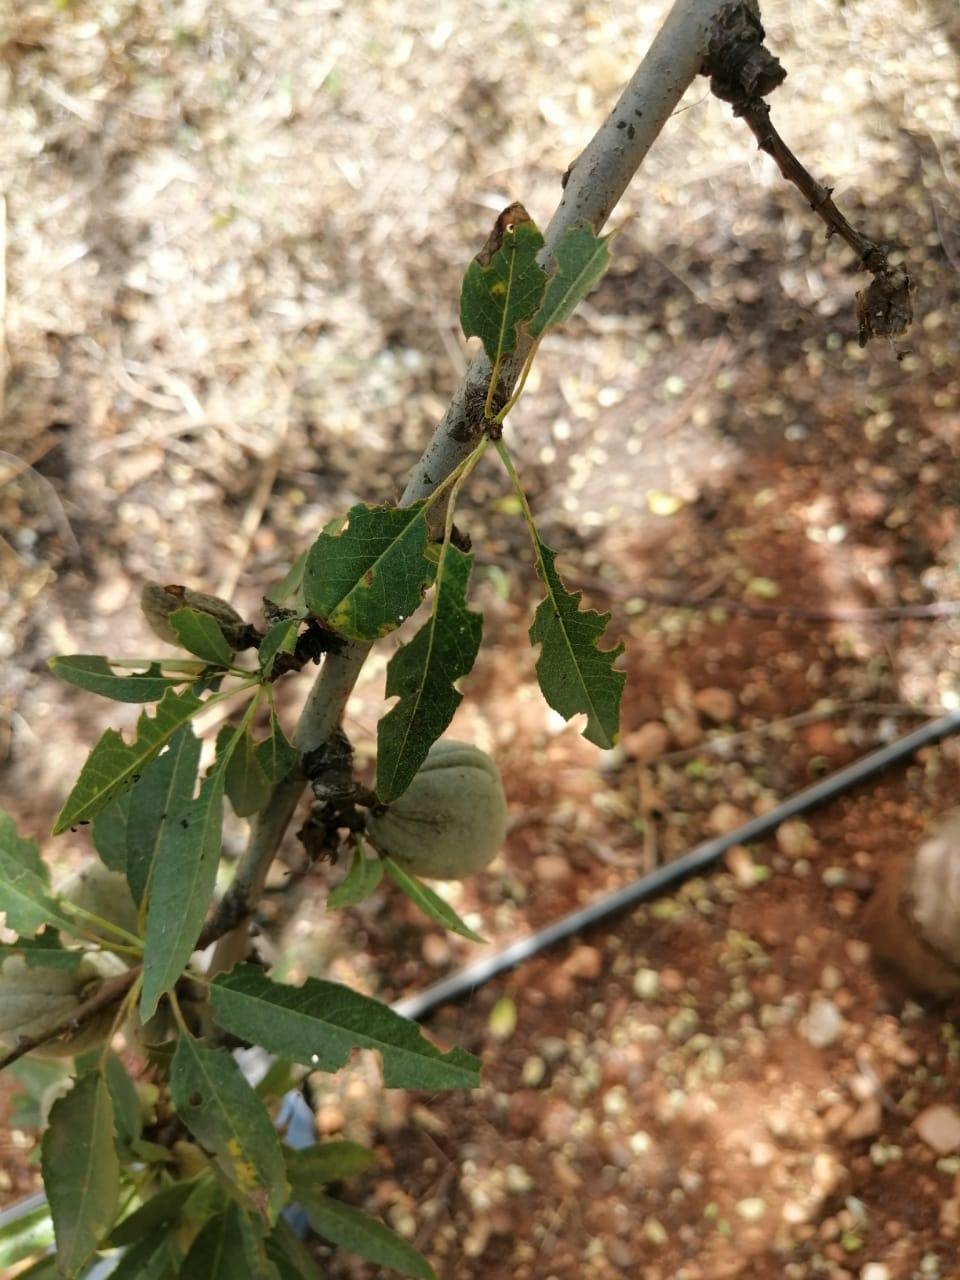acariens: (272, 306, 774, 845), (492, 717, 778, 1277), (130, 372, 299, 834), (188, 879, 318, 1265)
